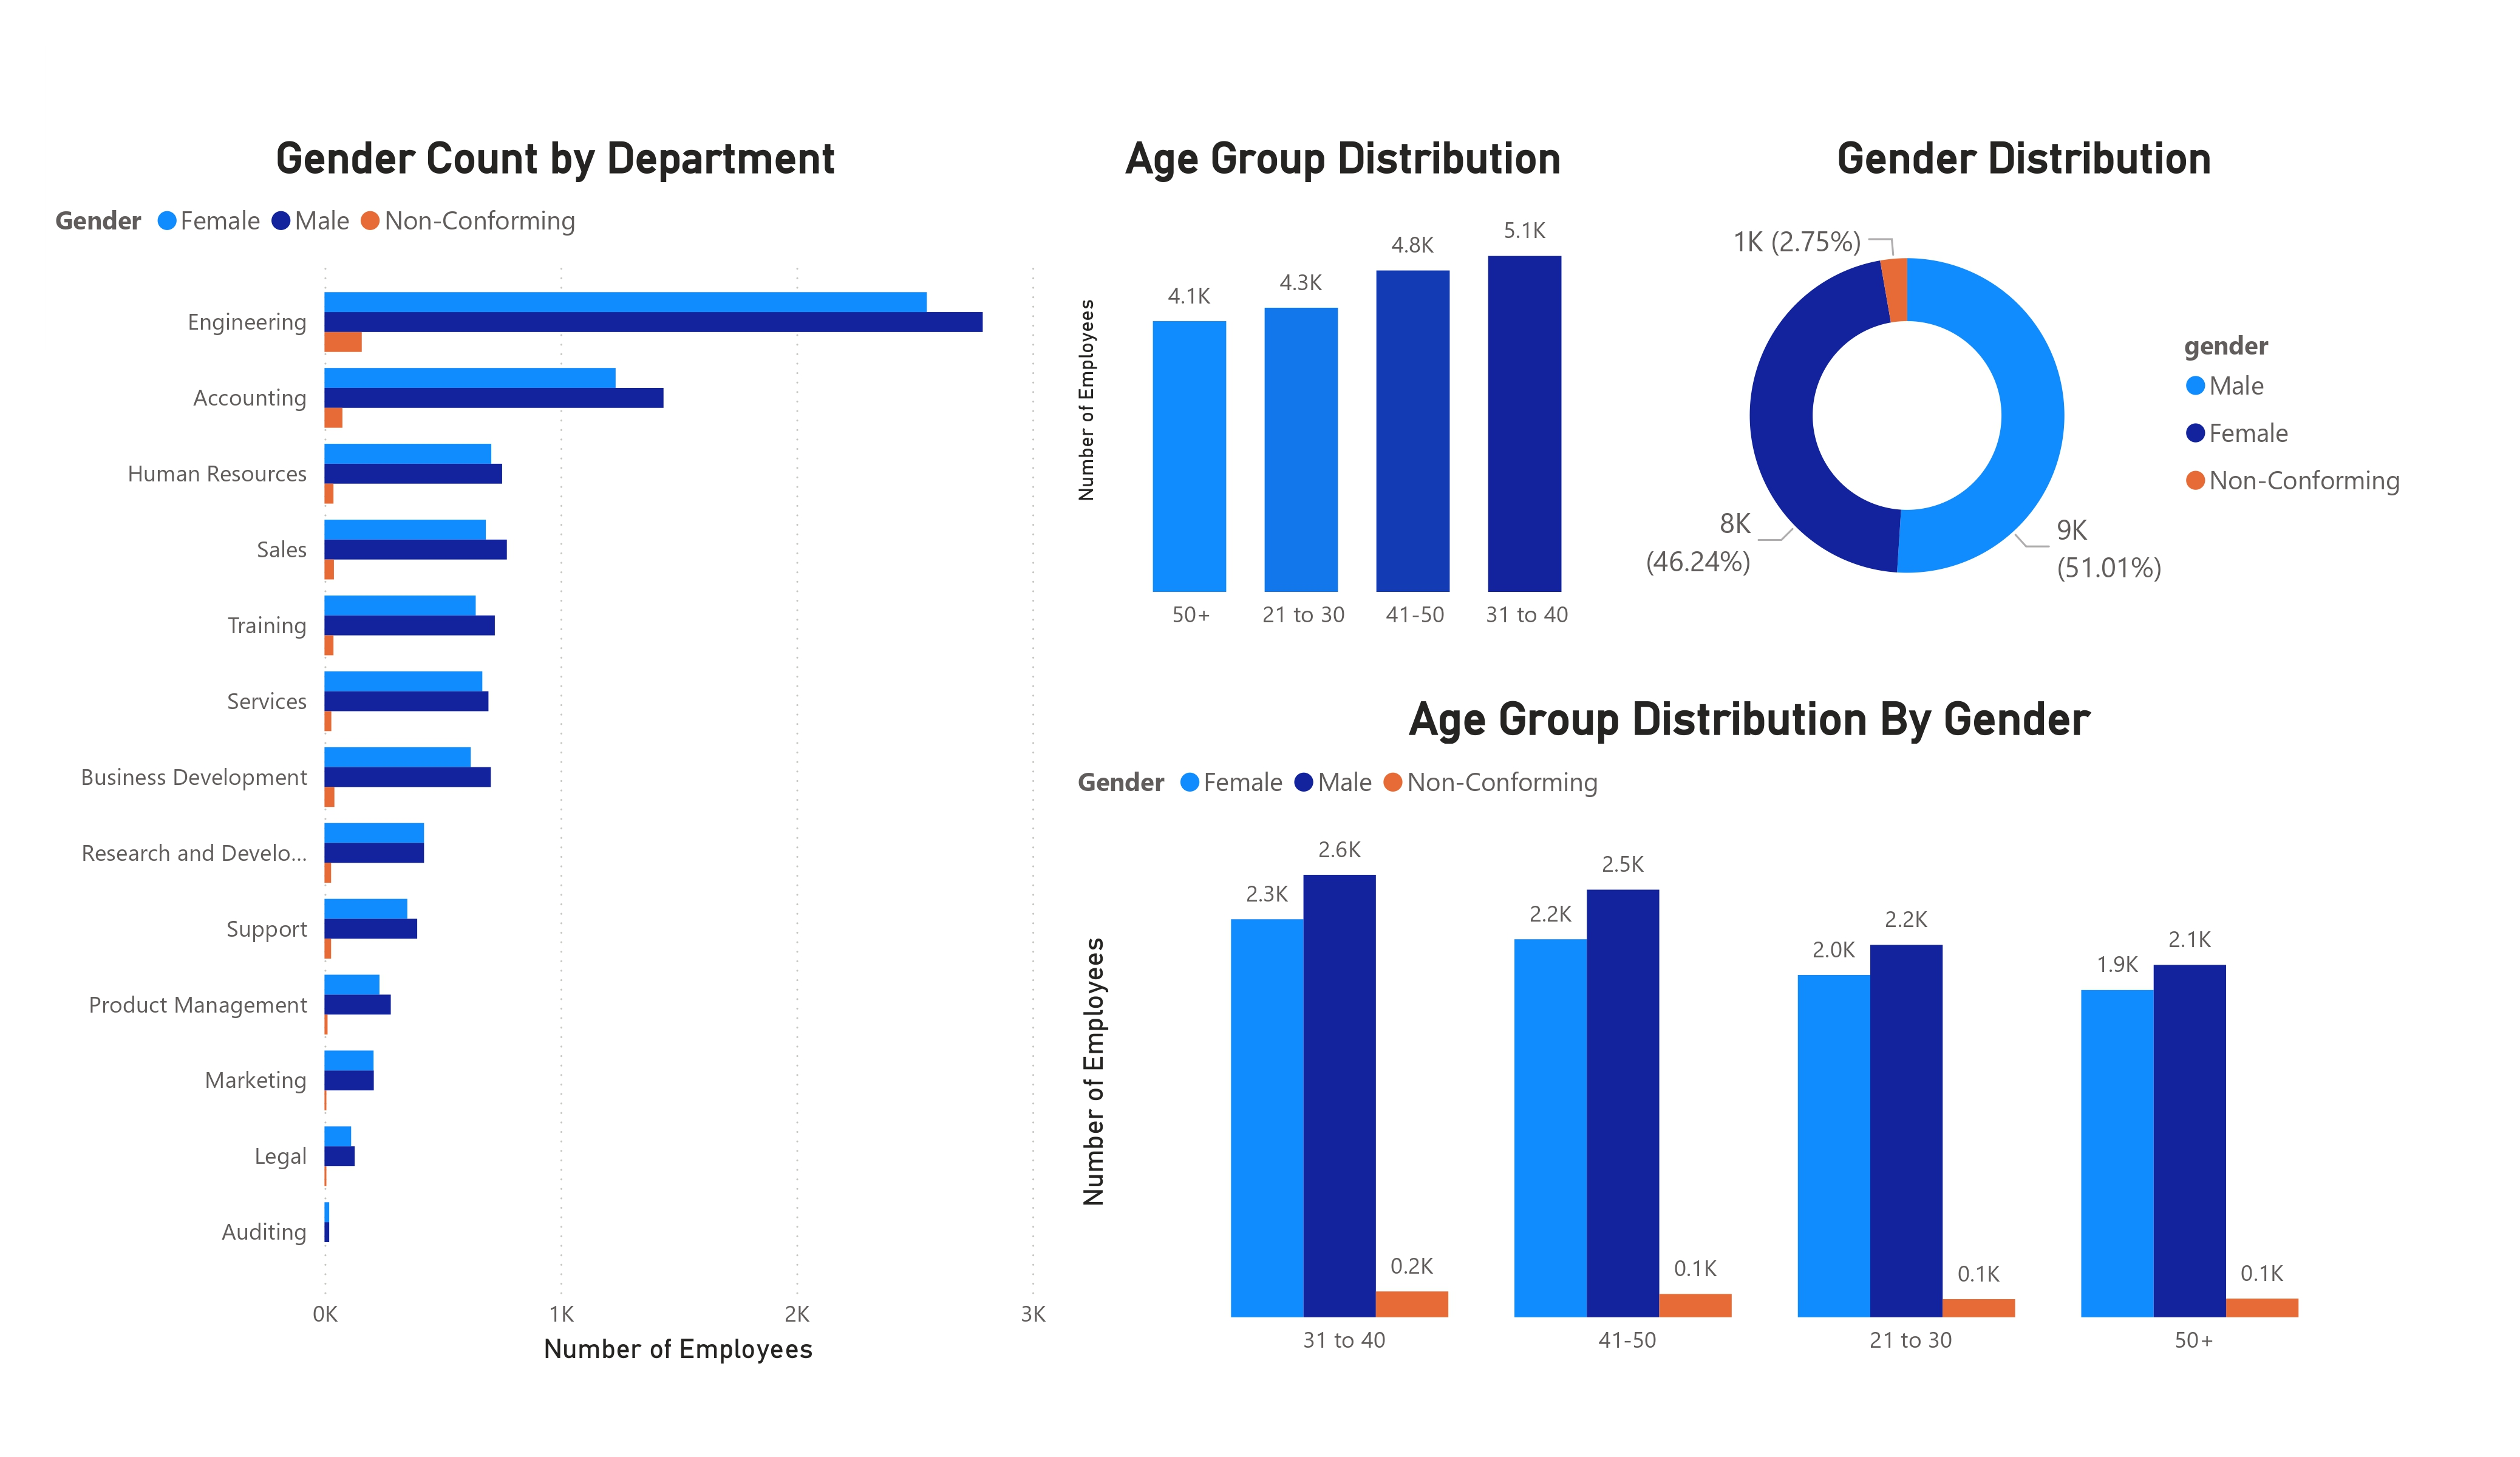

The page's visual inventory and layout, read from the dashboard file:
{"tool":"powerbi","page":{"name":"Age and Gender","canvas":[1280,720],"ordinal":1},"visuals":[{"type":"donutChart","title":"Gender Distribution","fields":{"Category":["gender.gender"],"Y":["Sum(gender.count)"]},"box":[830,46,426,272],"z":0},{"type":"clusteredBarChart","title":"Gender Count by Department","fields":{"Category":["gender - departments.department"],"Y":["Sum(gender - departments.count)"],"Series":["gender - departments.gender"]},"box":[0,46,538,654],"z":1000},{"type":"clusteredColumnChart","title":"Age Group Distribution","fields":{"Y":["Sum(age group distribution.count)"],"Category":["age group distribution.age_group"]},"box":[538,46,292,272],"z":2000},{"type":"clusteredColumnChart","title":"Age Group Distribution By Gender","fields":{"Category":["age group distribution by gender.age_group"],"Y":["Sum(age group distribution by gender.count)"],"Series":["age group distribution by gender.gender"]},"box":[538.6,340.8,718.2,359.1],"z":3000}]}

Visuals, with their boxes on the page's 1280x720 design canvas (x1, y1, x2, y2). These are canvas units, not pixel positions in the 2520x1457 screenshot, which may show the page scaled, cropped or inside an application window:
"Gender Distribution" donutChart: region(830, 46, 1256, 318)
"Gender Count by Department" clusteredBarChart: region(0, 46, 538, 700)
"Age Group Distribution" clusteredColumnChart: region(538, 46, 830, 318)
"Age Group Distribution By Gender" clusteredColumnChart: region(539, 341, 1257, 700)
